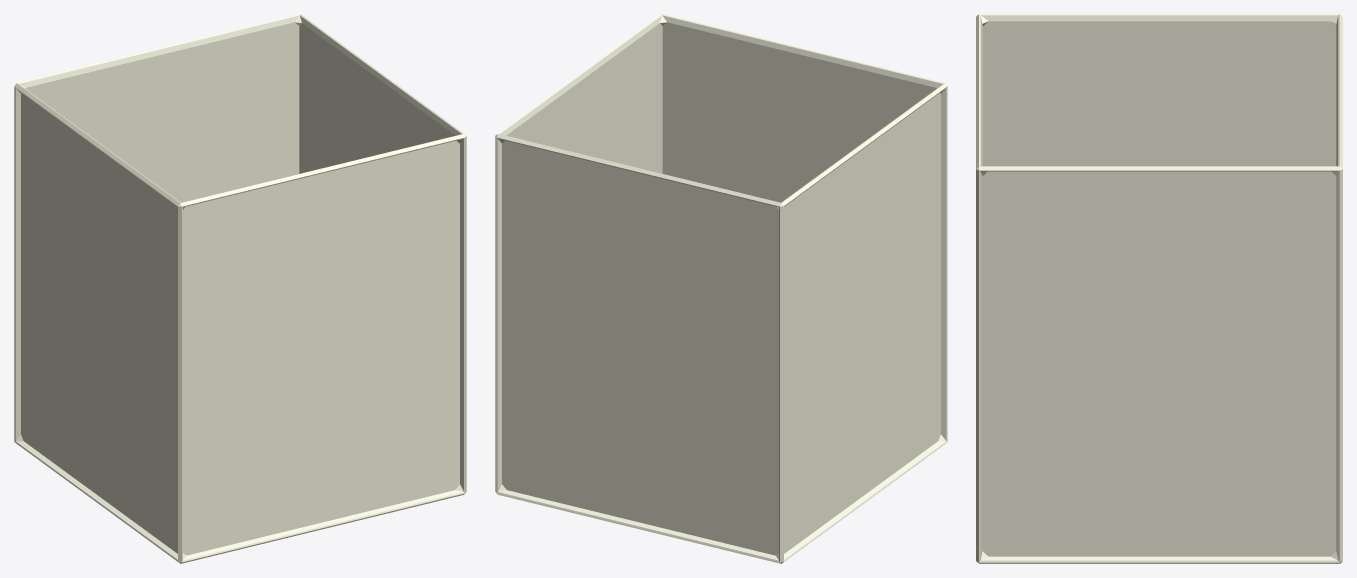
The model's file is 3dSuikaAssets.fbx.
The picture shows the model from 3 angles, left to right: view 1: azimuth 30°, elevation 25°; view 2: azimuth 150°, elevation 25°; view 3: azimuth 270°, elevation 25°; orthographic projection. The views are drawn at different scales.
Visible parts, largest first — view 1: glass, frame; view 2: glass, frame; view 3: glass, frame.
Part boxes in pixels (x1,y1,x2,y2): glass: (21, 22, 459, 555); frame: (14, 14, 466, 563); glass: (502, 22, 940, 555); frame: (495, 14, 947, 563); glass: (982, 21, 1336, 556); frame: (976, 14, 1342, 563).
Size of what is drawn, in the model's own units: 384 by 459 by 384.
